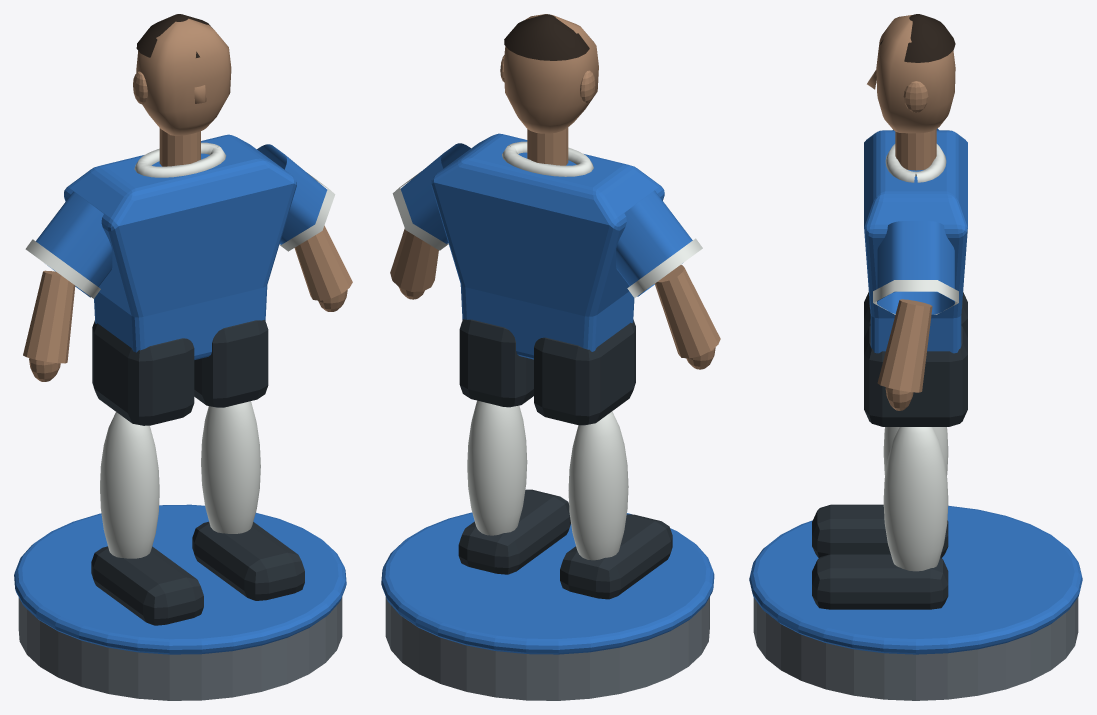
Rendered from player-bumper.glb.
3 renders of one model, left to right at view 1: azimuth 30°, elevation 25°; view 2: azimuth 150°, elevation 25°; view 3: azimuth 270°, elevation 25°, orthographic.
Visible parts, largest first — view 1: MESH_Team_Primary, MESH_Shorts_Graphite, MESH_Trim_Ivory, MESH_Skin_Warm, PRP_pedestal, MESH_Hair_Dark; view 2: MESH_Team_Primary, MESH_Shorts_Graphite, MESH_Trim_Ivory, PRP_pedestal, MESH_Skin_Warm, MESH_Hair_Dark; view 3: MESH_Team_Primary, MESH_Shorts_Graphite, PRP_pedestal, MESH_Skin_Warm, MESH_Trim_Ivory, MESH_Hair_Dark.
Boxes of the visible parts, x1=… form: MESH_Team_Primary: x1=14, y1=134, x2=346, y2=654; MESH_Shorts_Graphite: x1=91, y1=319, x2=304, y2=625; MESH_Trim_Ivory: x1=25, y1=142, x2=335, y2=558; MESH_Skin_Warm: x1=23, y1=18, x2=352, y2=381; PRP_pedestal: x1=18, y1=597, x2=342, y2=700; MESH_Hair_Dark: x1=136, y1=14, x2=212, y2=57; MESH_Team_Primary: x1=381, y1=133, x2=714, y2=654; MESH_Shorts_Graphite: x1=458, y1=319, x2=672, y2=599; MESH_Trim_Ivory: x1=392, y1=141, x2=702, y2=560; PRP_pedestal: x1=385, y1=597, x2=709, y2=700; MESH_Skin_Warm: x1=390, y1=14, x2=720, y2=369; MESH_Hair_Dark: x1=504, y1=14, x2=589, y2=60; MESH_Team_Primary: x1=749, y1=128, x2=1082, y2=654; MESH_Shorts_Graphite: x1=812, y1=292, x2=967, y2=609; PRP_pedestal: x1=753, y1=597, x2=1078, y2=700; MESH_Skin_Warm: x1=867, y1=15, x2=955, y2=410; MESH_Trim_Ivory: x1=873, y1=144, x2=958, y2=571; MESH_Hair_Dark: x1=880, y1=14, x2=955, y2=62.
Size of the model in its own units: 0.5766 by 1.05 by 0.514.
